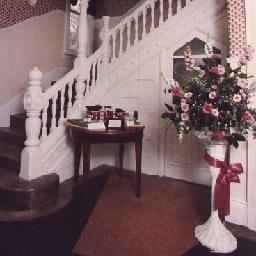Escaleras: (0, 61, 92, 174), (97, 0, 196, 83)
Matera: (176, 60, 249, 253)
